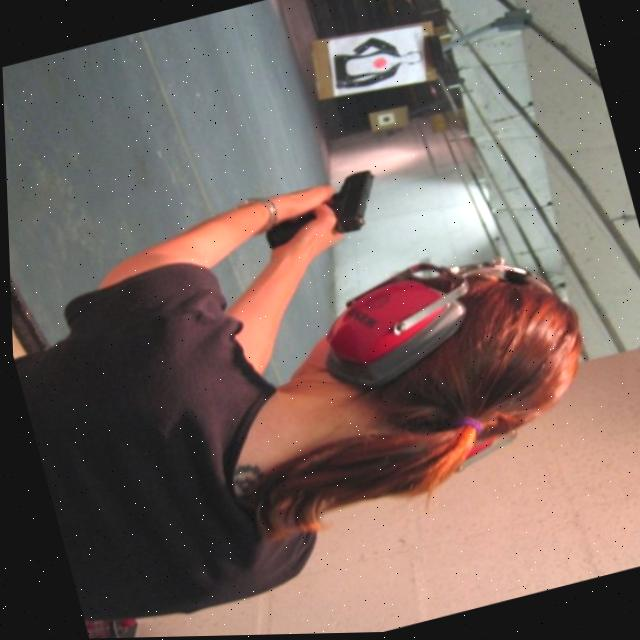pistol: (319, 167, 388, 238)
